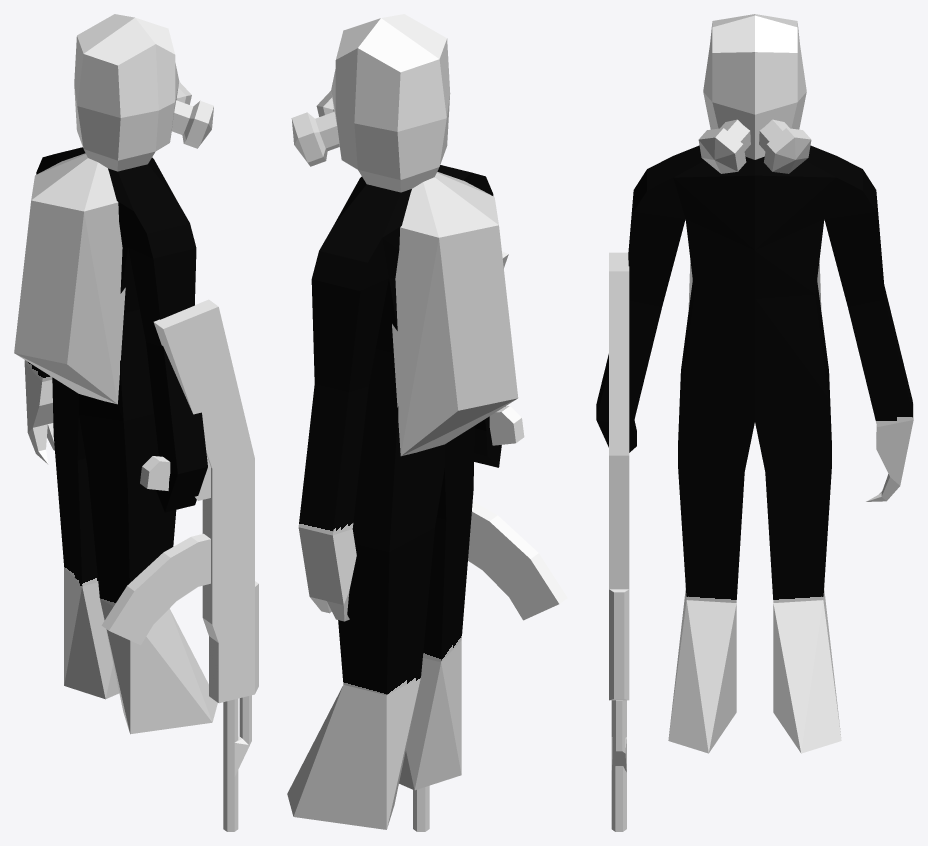
Rendered from enemy_soldier.glb.
The picture shows the model from 3 angles, left to right: view 1: azimuth 30°, elevation 25°; view 2: azimuth 150°, elevation 25°; view 3: azimuth 270°, elevation 25°; orthographic projection. The views are drawn at different scales.
Visible parts, largest first — view 1: Body, AK-47, Cube, Magazine, Cylinder.001, Cylinder; view 2: Body, Cube, Magazine, AK-47, Cylinder.002, Cylinder.003; view 3: Body, AK-47, Cylinder.001, Cylinder.002.
Part boxes in pixels (box(x1,y1,x2,y2)): Body: box(24, 14, 217, 734); AK-47: box(140, 299, 258, 831); Cube: box(14, 153, 125, 404); Magazine: box(101, 533, 210, 645); Cylinder.001: box(182, 100, 213, 148); Cylinder: box(172, 100, 193, 134); Body: box(287, 14, 501, 829); Cube: box(392, 172, 518, 456); Magazine: box(468, 501, 567, 620); AK-47: box(413, 251, 524, 831); Cylinder.002: box(291, 112, 327, 166); Cylinder.003: box(315, 111, 339, 150); Body: box(596, 14, 913, 753); AK-47: box(609, 252, 629, 831); Cylinder.001: box(698, 128, 746, 173); Cylinder.002: box(764, 128, 811, 173).
Bounding box in the file's own units: 0.6611 × 2.59 × 0.9348.
Materials: 2 (1 with a texture image).
